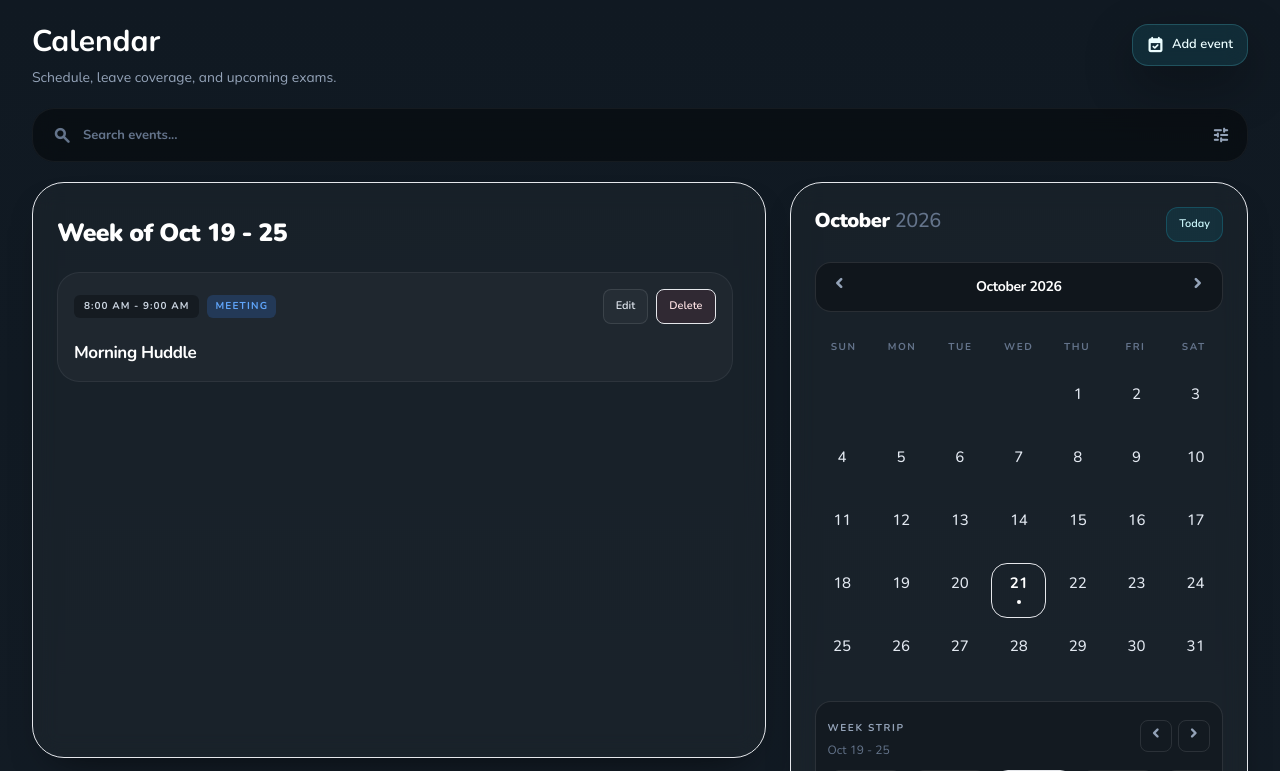
CalendarScreen › shows desktop layout markers and inline actions on wide viewports
Expected: the button "Edit" is shown, [603, 289, 648, 324]
Expected: the button "Delete" is shown, [656, 289, 716, 324]
Click the button with aria-label "Create Event": (1190, 45) [1132, 24, 1248, 66]
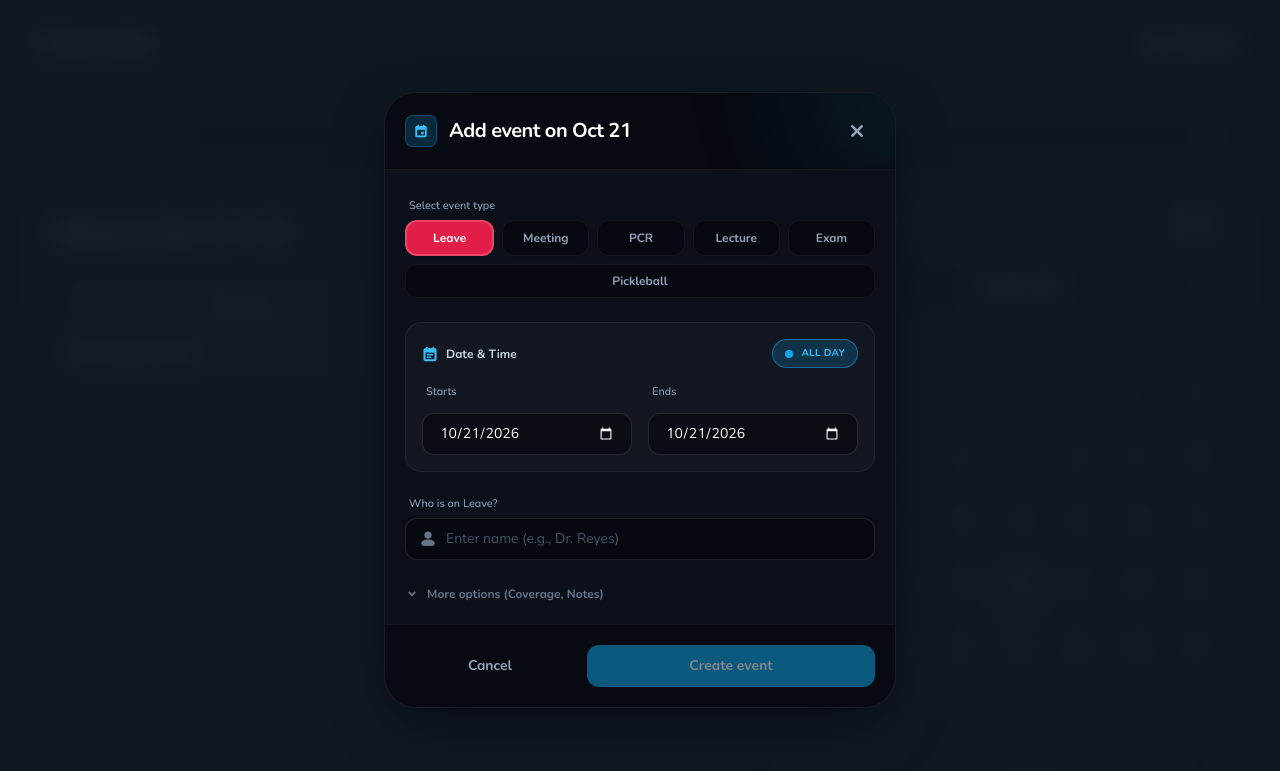
Result: the element with test id "calendar-event-modal-desktop" is shown at [384, 92, 896, 708]
